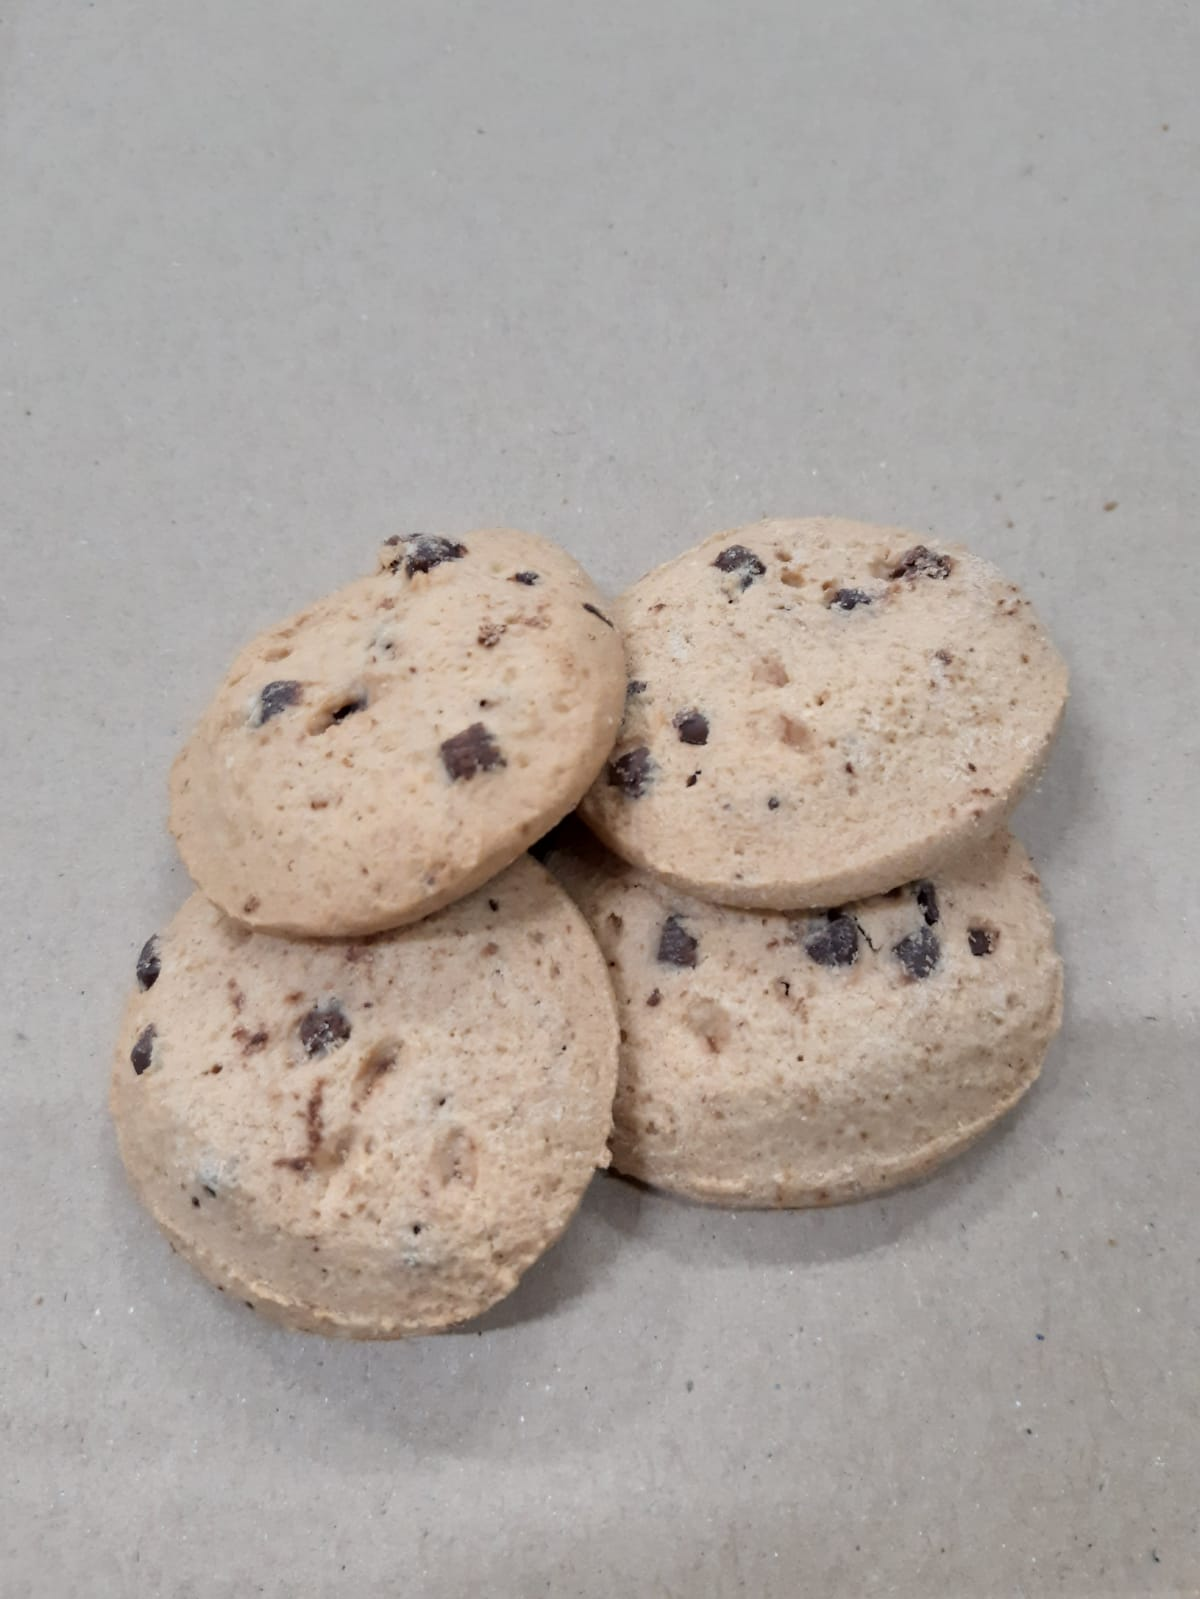Cookie1: (108, 814, 621, 1346), (480, 777, 1064, 1213), (558, 510, 1075, 922), (166, 518, 630, 945)
